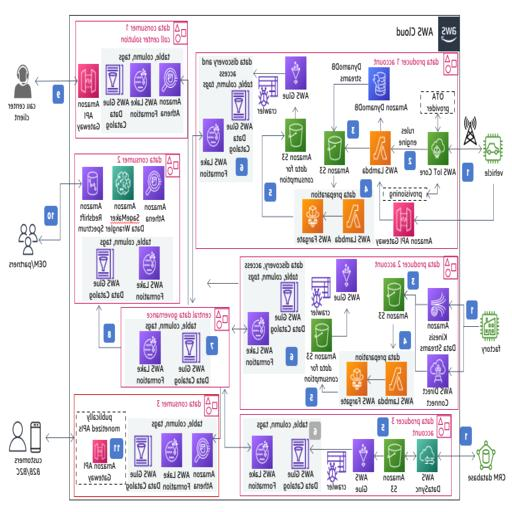actor: (471, 312, 502, 354), (10, 414, 41, 456), (471, 133, 502, 174), (471, 435, 502, 476), (10, 220, 41, 261), (10, 62, 41, 102)
api_gateway: (386, 202, 412, 238), (79, 69, 105, 105), (90, 432, 116, 468)
compute: (428, 136, 454, 172), (376, 136, 402, 172), (346, 197, 372, 233), (314, 197, 340, 233), (284, 64, 310, 100), (253, 69, 279, 105), (222, 94, 248, 130), (202, 120, 228, 156), (428, 300, 454, 336), (381, 361, 407, 397), (350, 361, 376, 397), (314, 264, 340, 300), (289, 268, 315, 304), (258, 289, 284, 325), (243, 315, 269, 351), (356, 438, 382, 474), (325, 438, 351, 474), (289, 438, 315, 474), (253, 438, 279, 474), (192, 340, 218, 376), (140, 340, 166, 376), (156, 64, 182, 100), (130, 64, 156, 100), (110, 64, 136, 100), (140, 161, 166, 197), (110, 161, 136, 197), (84, 161, 110, 197), (136, 248, 162, 284), (90, 248, 116, 284), (192, 432, 218, 468), (161, 432, 187, 468), (130, 432, 156, 468)
data_flow: (308, 140, 318, 218), (116, 302, 130, 343), (194, 220, 204, 272), (194, 154, 204, 204), (254, 261, 258, 312), (223, 400, 228, 440), (458, 144, 474, 154), (412, 302, 428, 312), (412, 328, 428, 338), (204, 279, 236, 284), (294, 100, 300, 126), (407, 148, 422, 158), (361, 148, 376, 158), (356, 113, 371, 123), (397, 318, 402, 348), (223, 125, 228, 151), (325, 300, 330, 326), (151, 304, 156, 330), (428, 174, 432, 205), (346, 169, 350, 200), (382, 108, 386, 138), (62, 84, 82, 90), (52, 432, 72, 438), (62, 238, 82, 243), (340, 376, 356, 382), (458, 315, 474, 320), (458, 366, 474, 371), (458, 453, 474, 458), (412, 453, 428, 458), (376, 453, 392, 458), (310, 279, 325, 284), (279, 279, 294, 284), (346, 453, 361, 458), (310, 453, 325, 458), (279, 453, 294, 458), (276, 84, 286, 90), (246, 84, 256, 90)
database_storage: (371, 69, 397, 105), (335, 130, 361, 166), (284, 120, 310, 156), (386, 274, 412, 310), (314, 325, 340, 361), (386, 438, 412, 474)
network_security: (428, 350, 454, 386), (428, 438, 454, 474)
trust_boundary: (51, 16, 471, 496), (194, 51, 460, 256), (233, 262, 463, 404), (236, 410, 460, 492), (72, 156, 184, 304), (72, 390, 226, 492), (72, 26, 184, 148), (118, 310, 230, 386)
